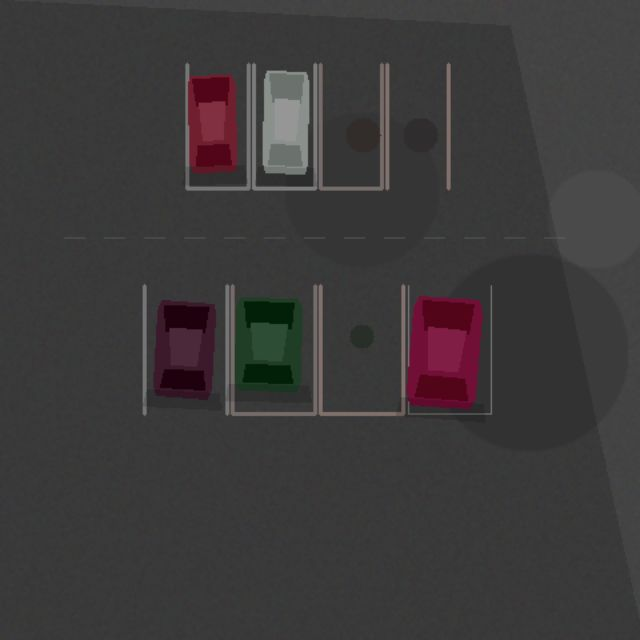space-empty: (320, 285, 403, 413), (320, 64, 381, 188), (387, 64, 448, 188)
space-occupied: (144, 285, 227, 413), (232, 285, 315, 413), (408, 285, 491, 413), (253, 64, 315, 188), (187, 64, 248, 188)
